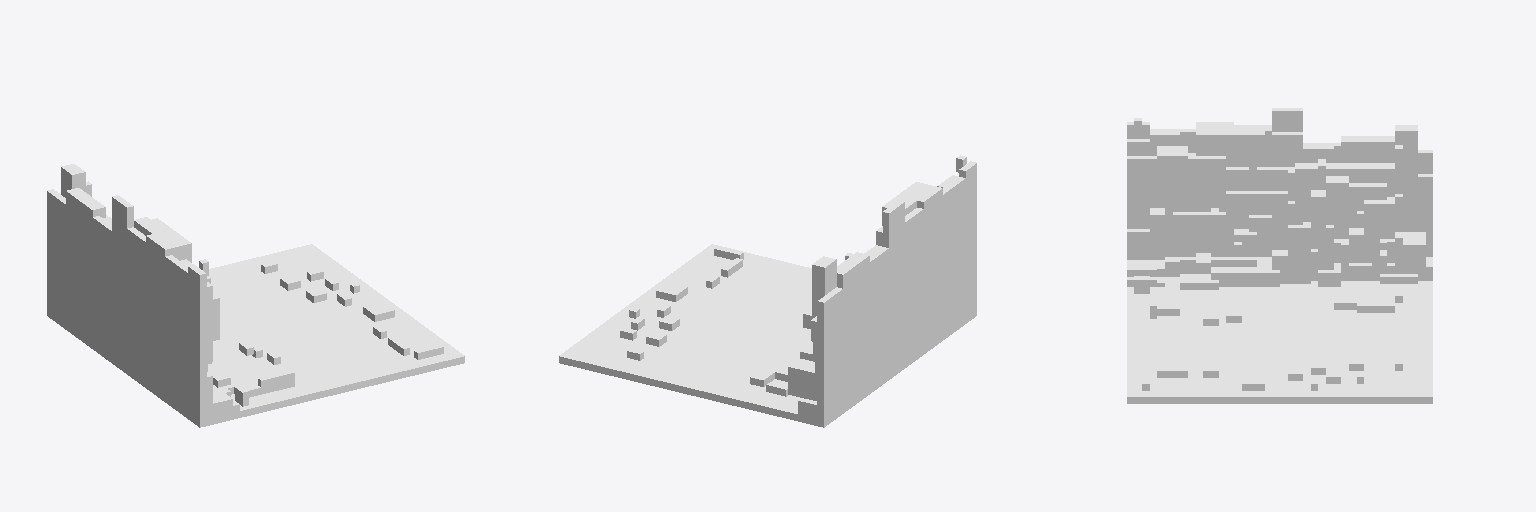
The model's file is floorwall1.obj.
3 renders of one model, left to right at view 1: azimuth 30°, elevation 25°; view 2: azimuth 150°, elevation 25°; view 3: azimuth 270°, elevation 25°, orthographic.
Parts seen in each view (by area): view 1: floorwall1; view 2: floorwall1; view 3: floorwall1.
Boxes of the visible parts, box(x1,y1,x2,y2) form: floorwall1: box(47, 164, 464, 427); floorwall1: box(559, 155, 976, 427); floorwall1: box(1127, 108, 1432, 403).
Bounding box in the file's own units: 40 × 24 × 40.